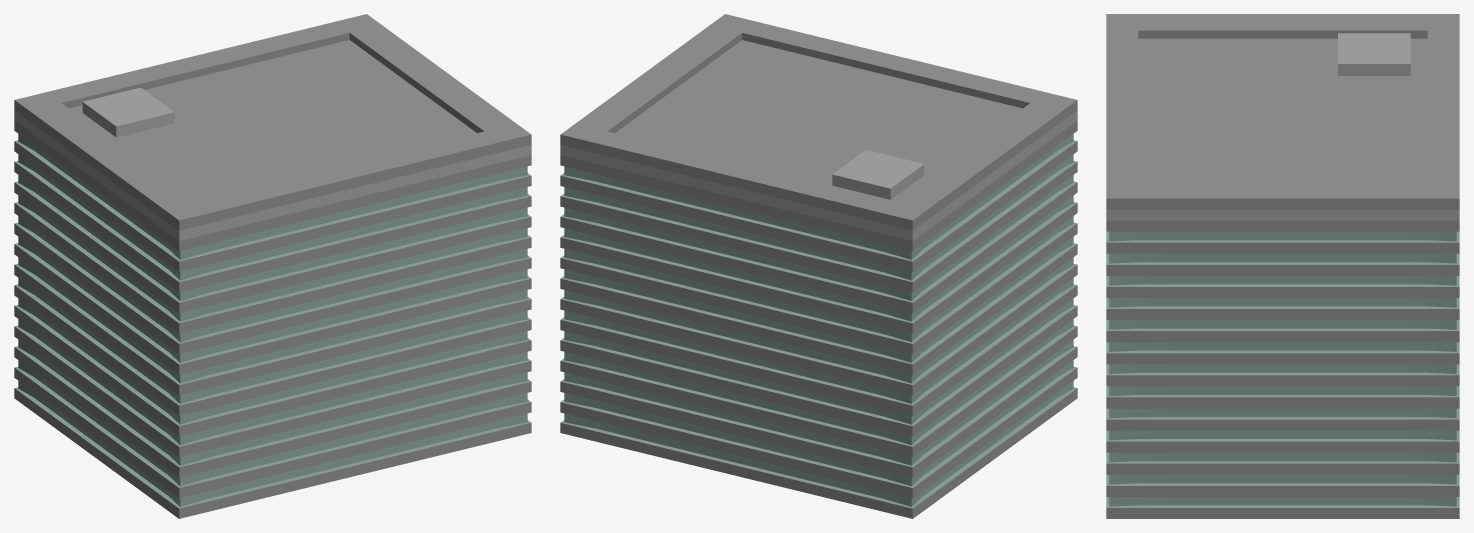
Rendered from SpecialBuilding9.fbx.
3 views of the same model, side by side, from view 1: azimuth 30°, elevation 25°; view 2: azimuth 150°, elevation 25°; view 3: azimuth 270°, elevation 25° (orthographic). The views are drawn at different scales.
Parts seen in each view (by area): view 1: pCube190; view 2: pCube190; view 3: pCube190.
Boxes of the visible parts, x1,y1,x2,y2 form: pCube190: [14, 14, 531, 518]; pCube190: [560, 14, 1077, 518]; pCube190: [1106, 14, 1459, 518].
Size of the model in its own units: 16.71 by 13.7 by 13.52.
